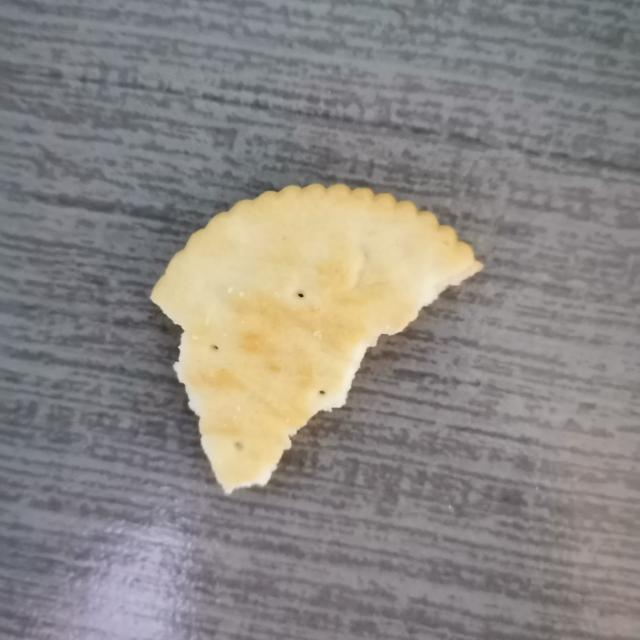Broken: (149, 180, 484, 496)
